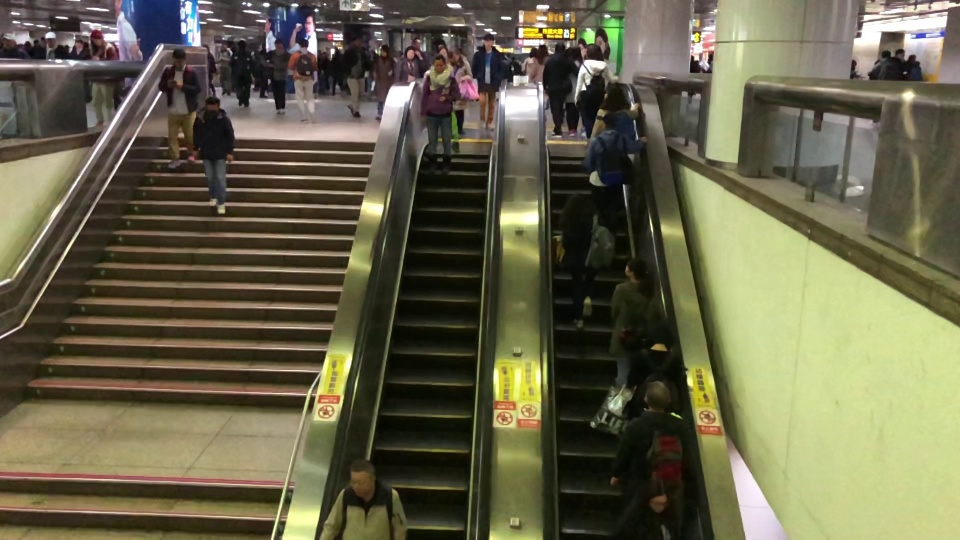person_head: (642, 475, 674, 515), (348, 456, 377, 498), (641, 378, 671, 411), (561, 192, 591, 216), (648, 323, 675, 348), (599, 84, 626, 108), (624, 258, 647, 281), (595, 112, 619, 130), (204, 95, 221, 118), (172, 45, 187, 69), (585, 42, 603, 60), (432, 54, 449, 72), (90, 28, 105, 48), (483, 32, 495, 53), (2, 33, 17, 49), (535, 44, 549, 61), (568, 44, 581, 62), (553, 42, 567, 57), (44, 32, 56, 49), (448, 46, 460, 63), (296, 37, 310, 51), (403, 45, 415, 60), (894, 48, 905, 62), (378, 44, 389, 57), (236, 39, 247, 51), (352, 35, 362, 48), (527, 47, 538, 58), (274, 39, 283, 52), (907, 53, 917, 63)
person_vbox: (608, 378, 691, 498), (580, 111, 647, 232), (557, 192, 615, 328), (318, 457, 408, 540), (609, 256, 663, 389), (418, 55, 462, 175), (625, 323, 684, 412), (159, 47, 202, 168), (193, 95, 236, 216), (611, 478, 690, 540), (575, 42, 618, 148), (542, 42, 580, 139), (470, 32, 505, 130), (589, 81, 641, 145), (85, 30, 119, 126), (443, 45, 473, 135), (286, 38, 318, 122), (340, 35, 369, 117), (261, 39, 291, 115), (371, 44, 395, 121), (228, 39, 254, 107), (564, 44, 583, 137), (878, 48, 920, 81), (395, 45, 427, 86), (529, 44, 550, 100), (36, 31, 69, 60), (0, 34, 30, 60), (520, 46, 539, 77), (905, 54, 923, 80)
